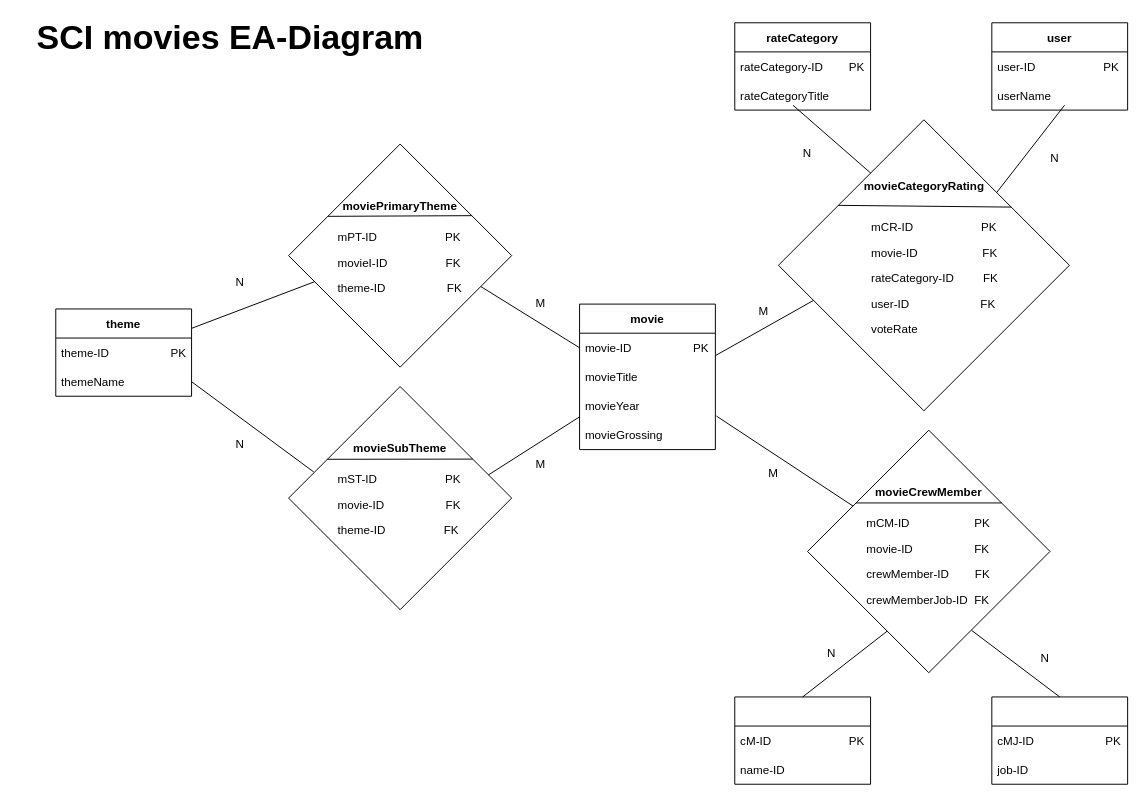
This 1145x810 diagram has some shape labels left out. The box of each missing label's shape, as (x1, y1, x2, y2) in pixels:
crewMember: (734, 696, 871, 784)
crewMemeberJob: (991, 696, 1128, 784)
